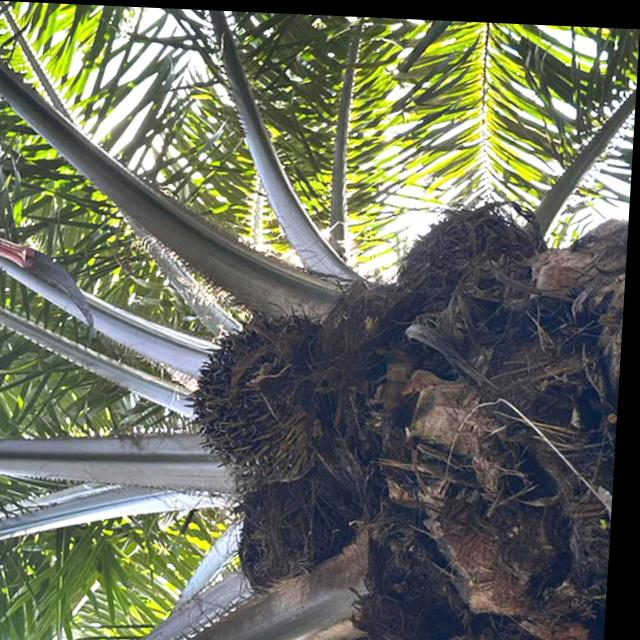unripe: (178, 293, 360, 490), (391, 184, 562, 333), (233, 443, 368, 603)
